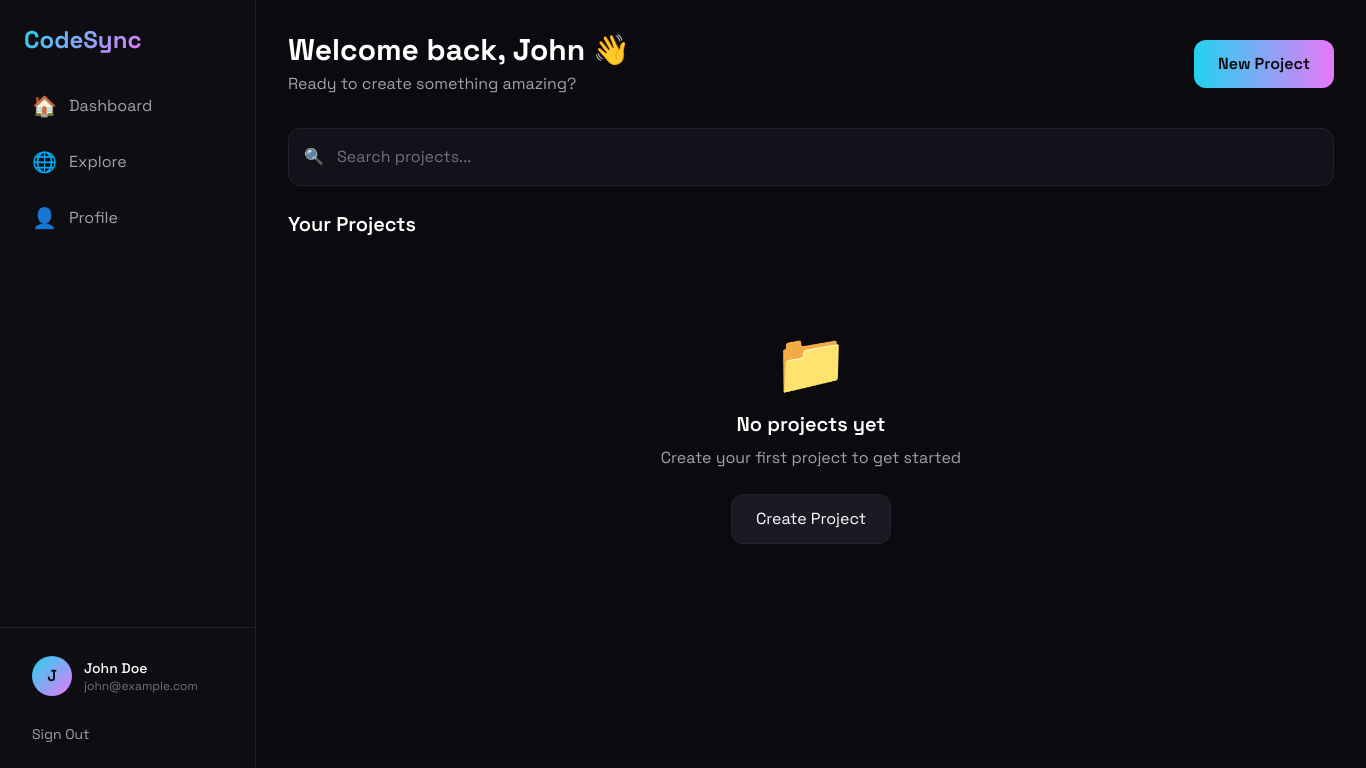
Scenario: Dashboard Page › should open create project modal
Click the button "New Project": (1264, 64) top-left (1194, 40), bottom-right (1334, 88)
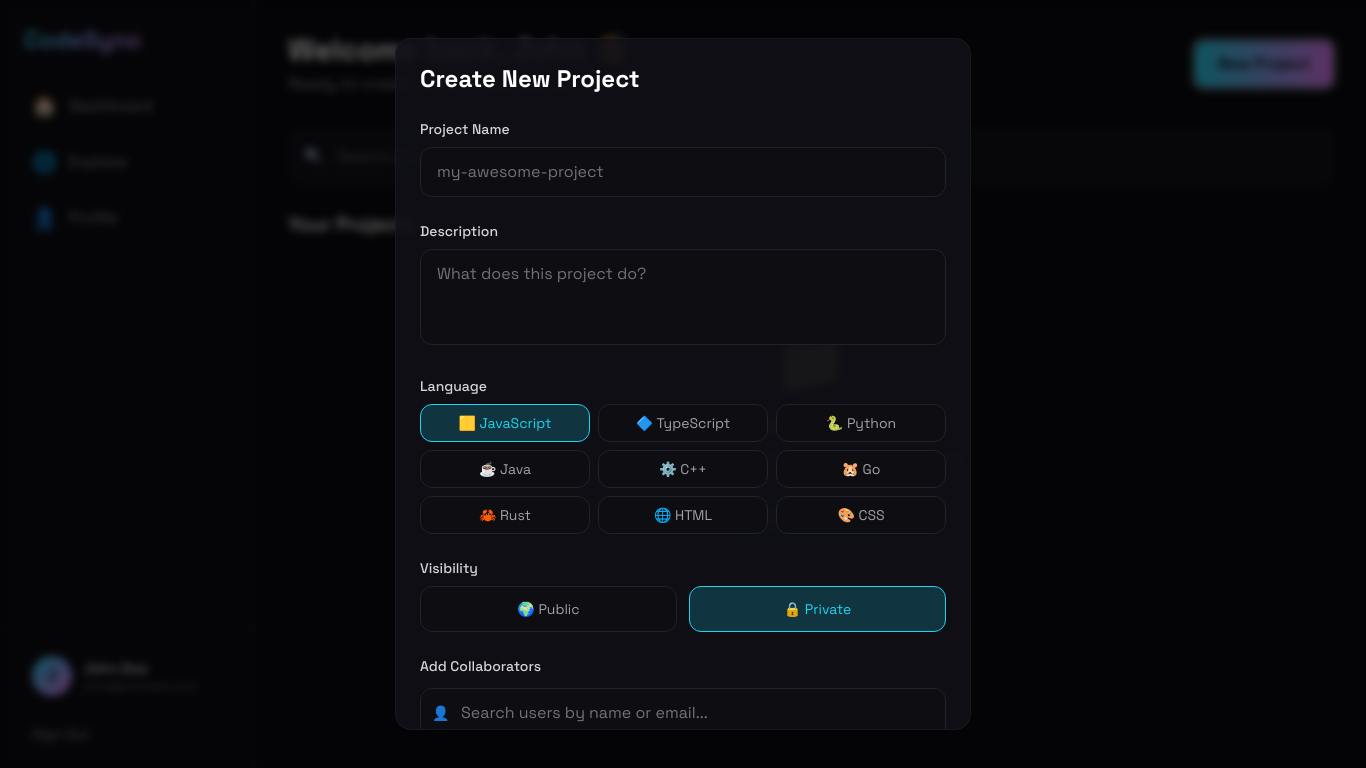
Result: the heading "Create New Project" is shown at top-left (420, 63), bottom-right (640, 94)
